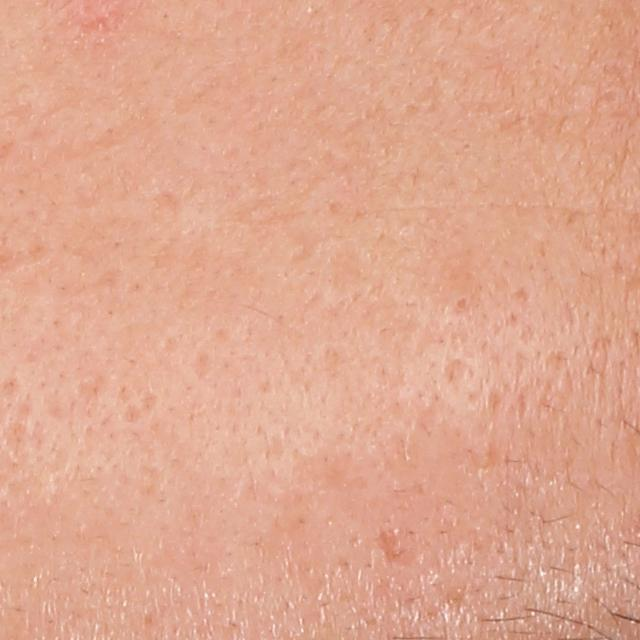atrophic_scar: (372, 530, 404, 561), (444, 356, 465, 390), (191, 352, 209, 384)
